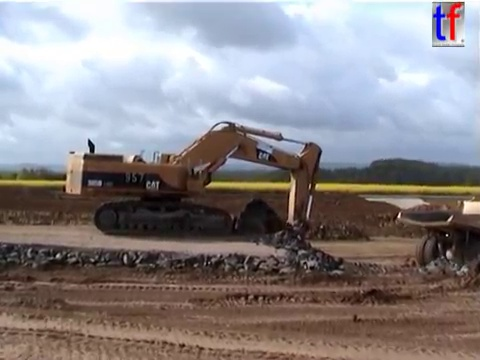excavator: (62, 117, 325, 272)
truck: (395, 197, 480, 280)
